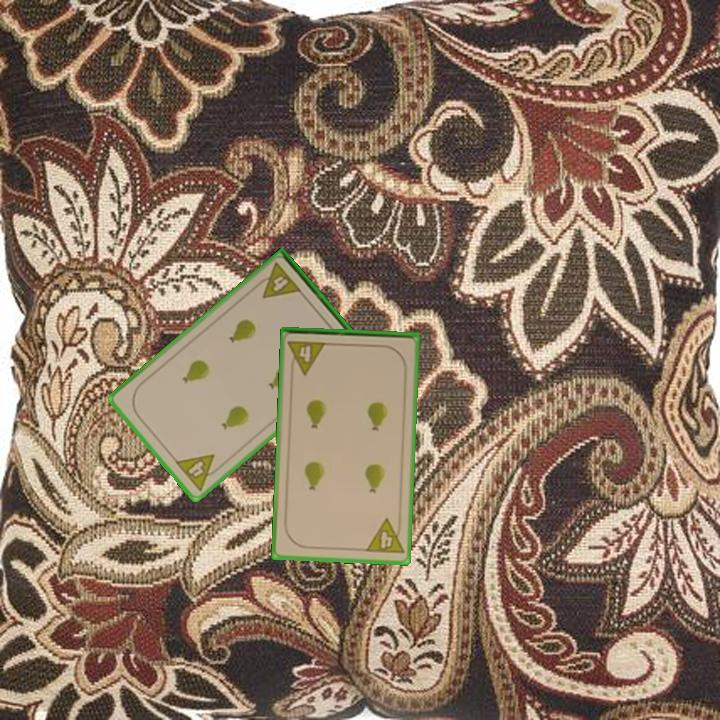4p: (171, 451, 226, 494), (251, 259, 304, 302), (362, 515, 407, 557), (285, 337, 329, 377)
